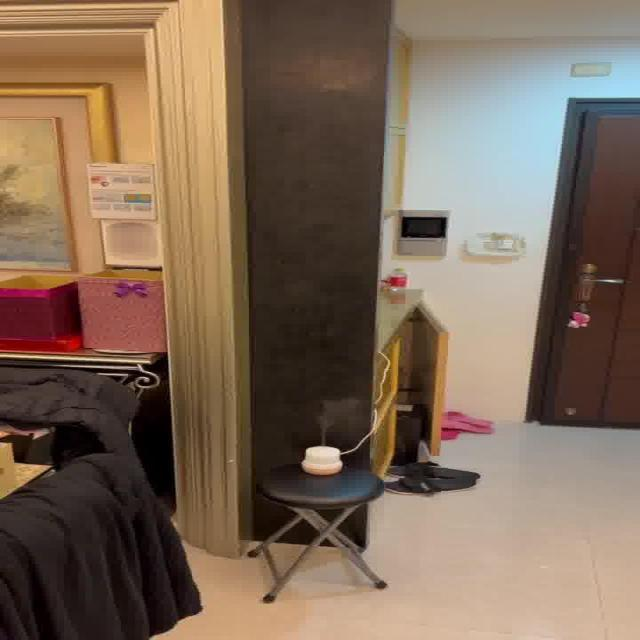fire: (311, 396, 362, 442)
